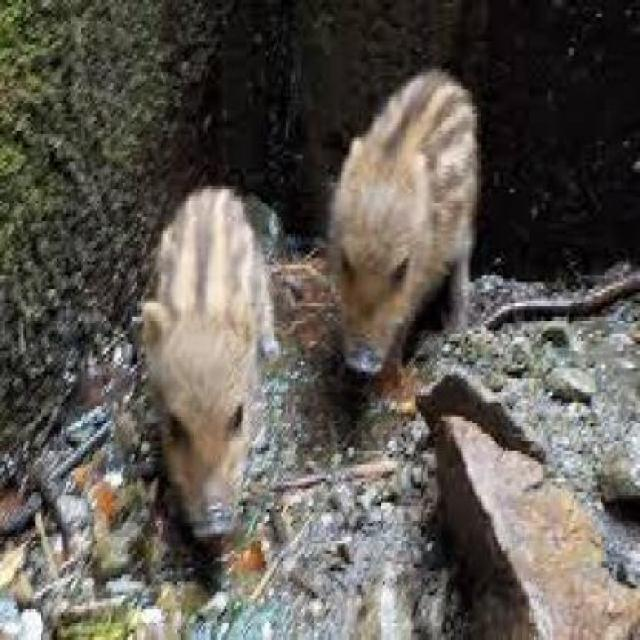Wild Boar: (132, 184, 283, 545), (325, 68, 486, 375)
